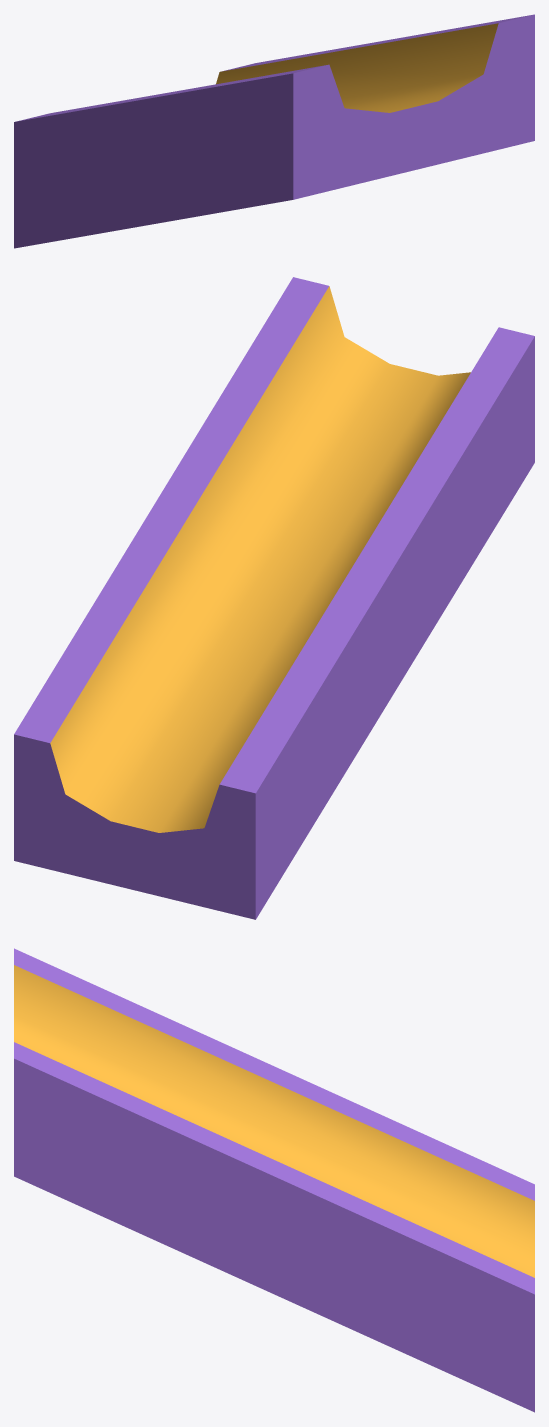
The model's file is kenney-marble-slant-long-c.glb.
3 views of the same model, one above another, from view 1: azimuth 30°, elevation 25°; view 2: azimuth 150°, elevation 25°; view 3: azimuth 270°, elevation 25° (orthographic). The views are drawn at different scales.
Visible parts, largest first — view 1: slant-long-c; view 2: slant-long-c; view 3: slant-long-c.
Part boxes in pixels (left/top/right/bottom): slant-long-c: left=14, top=14, right=534, bottom=248; slant-long-c: left=14, top=277, right=534, bottom=919; slant-long-c: left=14, top=948, right=534, bottom=1412.
Size of the model in its own units: 1 by 1.5 by 2.
1 material, 1 textured.
